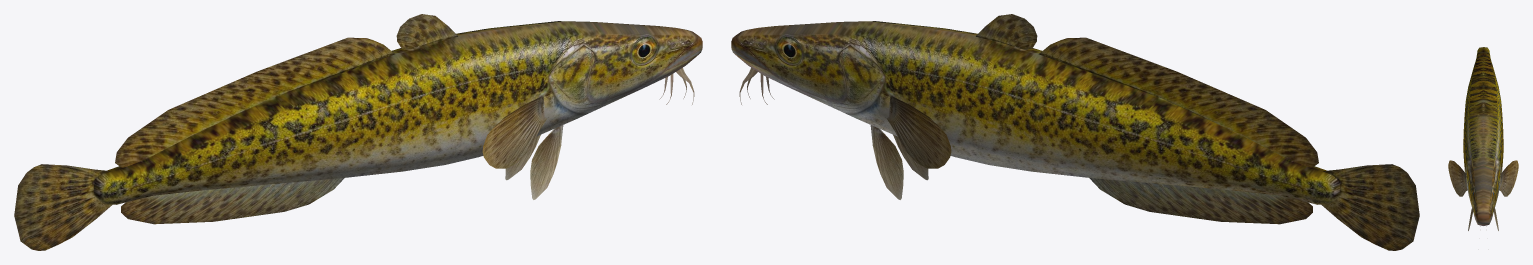
Rendered from Burbot.glb.
The picture shows the model from 3 angles, left to right: view 1: azimuth 30°, elevation 25°; view 2: azimuth 150°, elevation 25°; view 3: azimuth 270°, elevation 25°; orthographic projection. The views are drawn at different scales.
Visible parts, largest first — view 1: Burbot; view 2: Burbot; view 3: Burbot.
Boxes of the visible parts, left/top/right/bottom form: Burbot: left=14, top=14, right=702, bottom=250; Burbot: left=731, top=14, right=1419, bottom=250; Burbot: left=1448, top=47, right=1518, bottom=230.
Bounding box in the file's own units: 2 × 0.5586 × 0.3105.
1 material, 1 textured.
